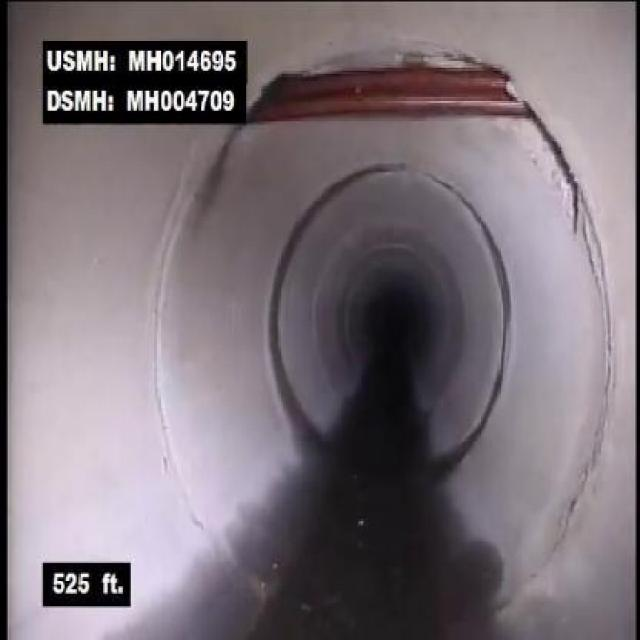Utility intrusion: (249, 42, 537, 162)
